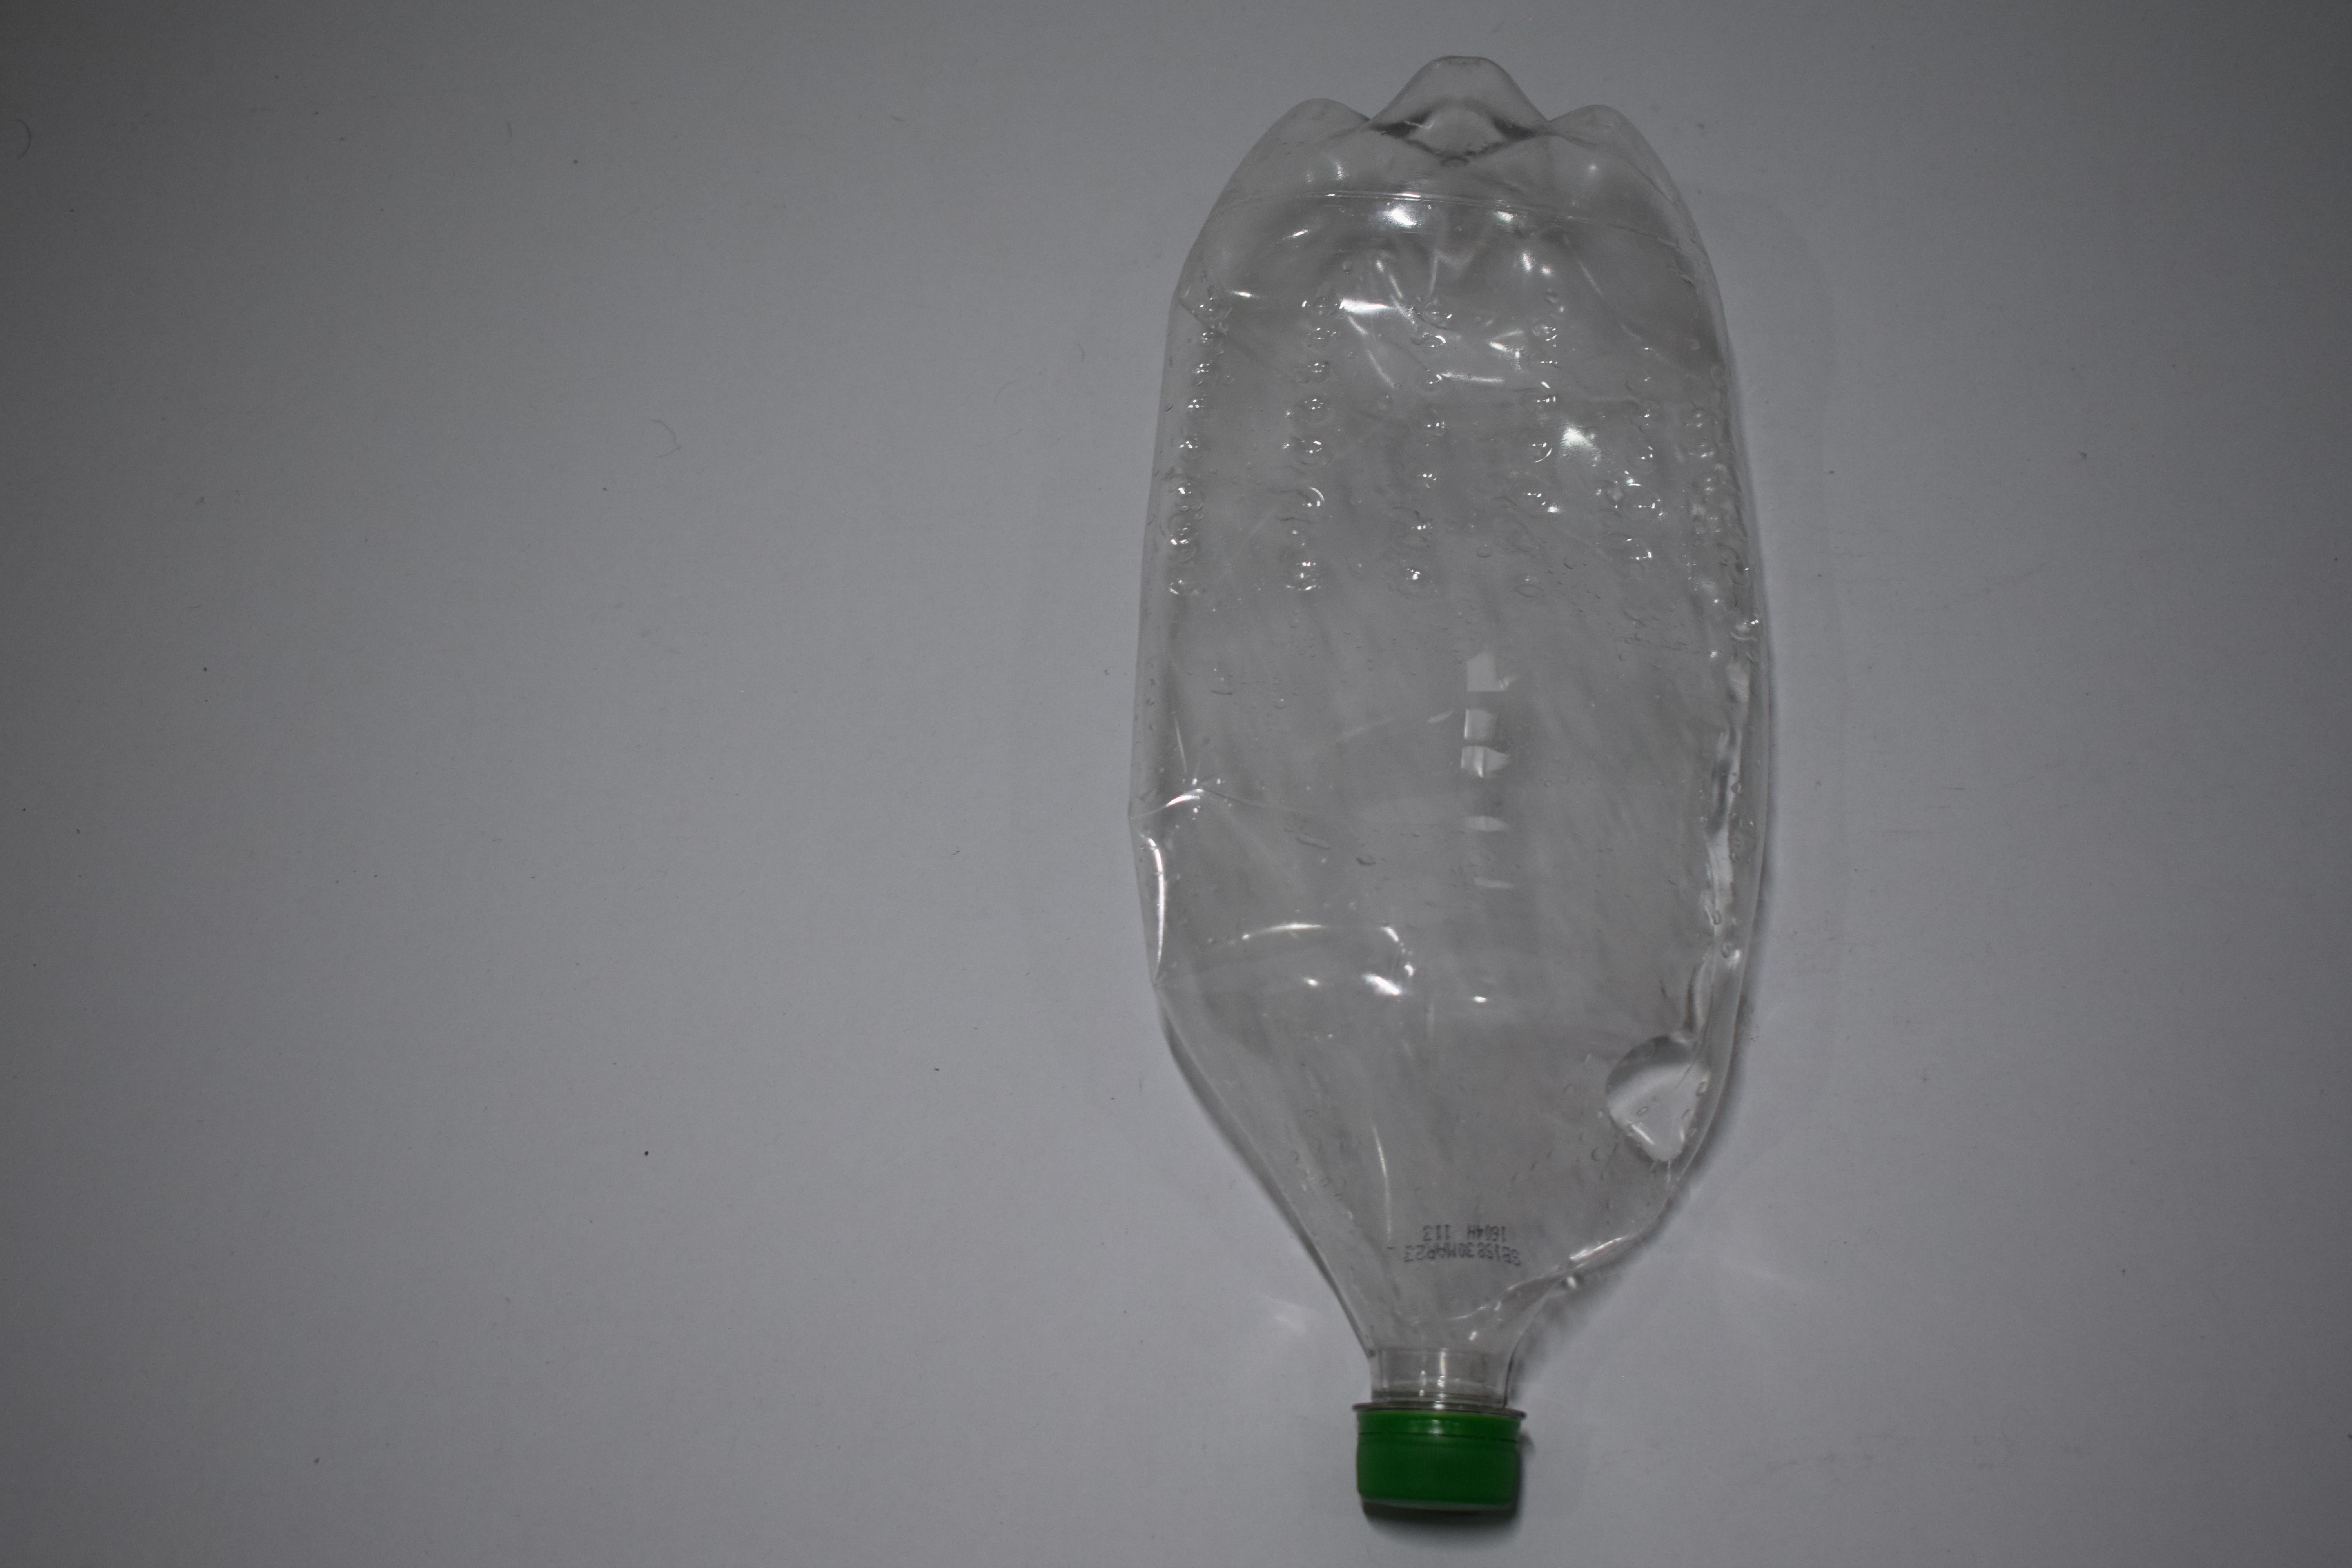bottle: (1120, 0, 1754, 709)
